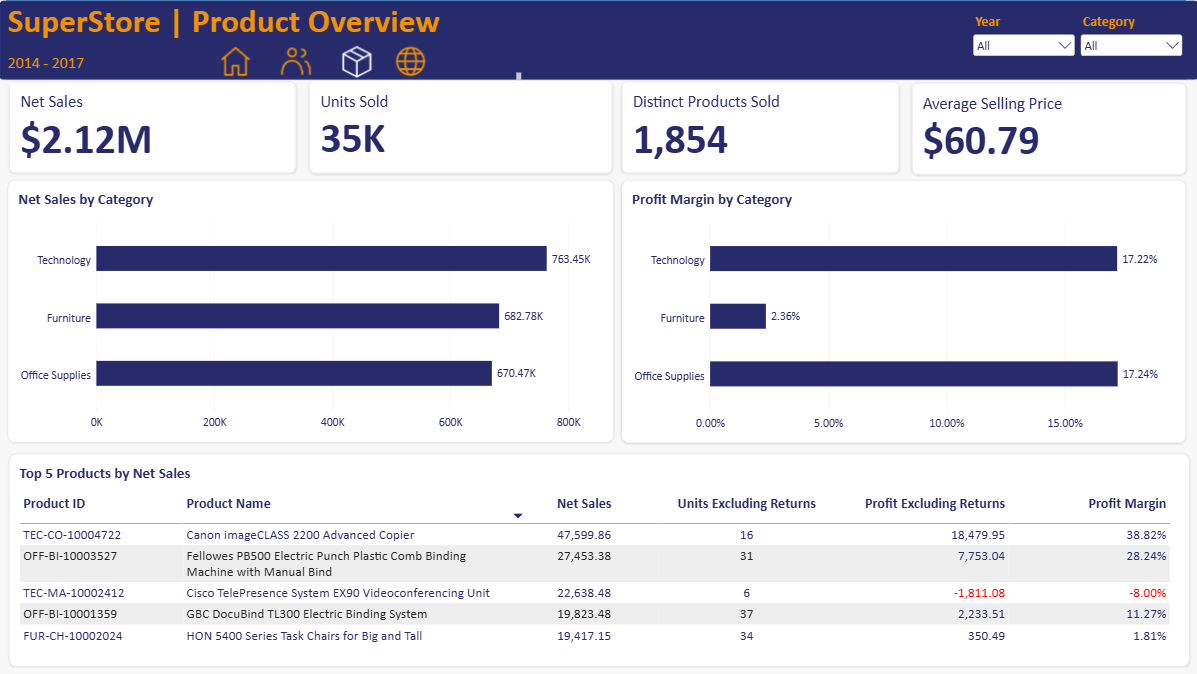

The dashboard page shown, as its layout file describes it:
{"tool":"powerbi","page":{"name":"Products","canvas":[1920,1080],"ordinal":4},"visuals":[{"type":"shape","box":[0,0,1920.1,128.5],"z":0},{"type":"textbox","title":"SuperStore | Product Overview","box":[14.5,0,821.6,130.3],"z":1000},{"type":"slicer","title":"Year","fields":{"Values":["Orders.Order Date.Variation.Date Hierarchy.Year"]},"box":[1554.5,19.9,171.9,90.5],"z":2000},{"type":"cardVisual","fields":{"Data":["Orders.Net Sales"]},"box":[16.3,129.4,459.7,148.4],"z":3000},{"type":"cardVisual","fields":{"Data":["Orders.Units Excluding Returns"]},"box":[495.8,128.5,486.8,150.2],"z":4000},{"type":"cardVisual","fields":{"Data":["Orders.Products Excluding Returns"]},"box":[995.3,130.3,445.2,148.4],"z":5000},{"type":"cardVisual","fields":{"Data":["Orders.ASP"]},"box":[1459.8,131,440,148],"z":6000},{"type":"slicer","fields":{"Values":["Orders.Category"]},"box":[1726.4,19.9,171.9,74.2],"z":7000},{"type":"clusteredBarChart","title":"Net Sales by Category","fields":{"Category":["Orders.Category"],"Y":["Orders.Net Sales"]},"box":[14.4,288.2,969.5,419.9],"z":8000},{"type":"clusteredBarChart","title":"Profit Margin by Category","fields":{"Category":["Orders.Category"],"Y":["Orders.Profit Margin"]},"box":[995.3,287.7,903,421],"z":9000},{"type":"tableEx","title":"Top 5 Products by Net Sales","fields":{"Values":["Orders.Product ID","Orders.Product Name","Orders.Net Sales","Orders.Units Excluding Returns","Orders.Profit Excluding Returns","Orders.Profit Margin"]},"box":[16.5,726.6,1889,341],"z":10000},{"type":"actionButton","box":[426.4,63.8,97,61.3],"z":11000},{"type":"actionButton","box":[329.4,63.8,97,61.3],"z":12000},{"type":"actionButton","box":[523.4,63.8,97,61.3],"z":13000},{"type":"actionButton","box":[610.2,63.8,97,61.3],"z":14000}]}

Visuals, with their boxes in screenshot pixels (x1, y1, x2, y2), scaled from the page's 1920x1080 canvas onto the 1197x674 screenshot:
shape: x1=0 y1=0 x2=1196 y2=80
"SuperStore | Product Overview" textbox: x1=9 y1=0 x2=521 y2=81
"Year" slicer: x1=969 y1=12 x2=1076 y2=69
cardVisual - Orders.Net Sales: x1=10 y1=81 x2=297 y2=173
cardVisual - Orders.Units Excluding Returns: x1=309 y1=80 x2=613 y2=174
cardVisual - Orders.Products Excluding Returns: x1=621 y1=81 x2=898 y2=174
cardVisual - Orders.ASP: x1=910 y1=82 x2=1184 y2=174
slicer - Orders.Category: x1=1076 y1=12 x2=1183 y2=59
"Net Sales by Category" clusteredBarChart: x1=9 y1=180 x2=613 y2=442
"Profit Margin by Category" clusteredBarChart: x1=621 y1=180 x2=1183 y2=442
"Top 5 Products by Net Sales" tableEx: x1=10 y1=453 x2=1188 y2=666
actionButton: x1=266 y1=40 x2=326 y2=78
actionButton: x1=205 y1=40 x2=266 y2=78
actionButton: x1=326 y1=40 x2=387 y2=78
actionButton: x1=380 y1=40 x2=441 y2=78
